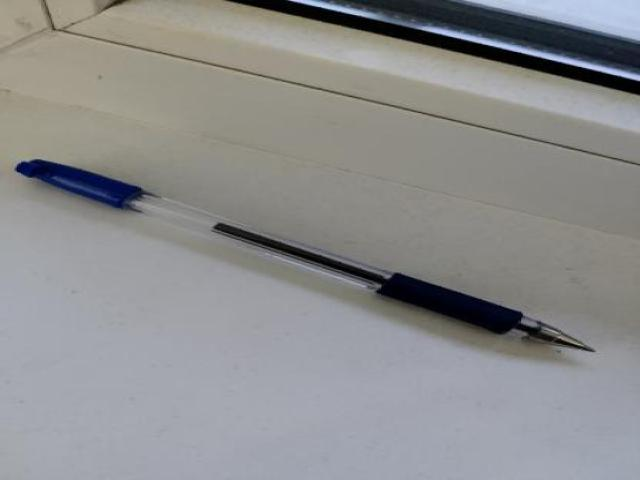PEN: (5, 142, 612, 374)
